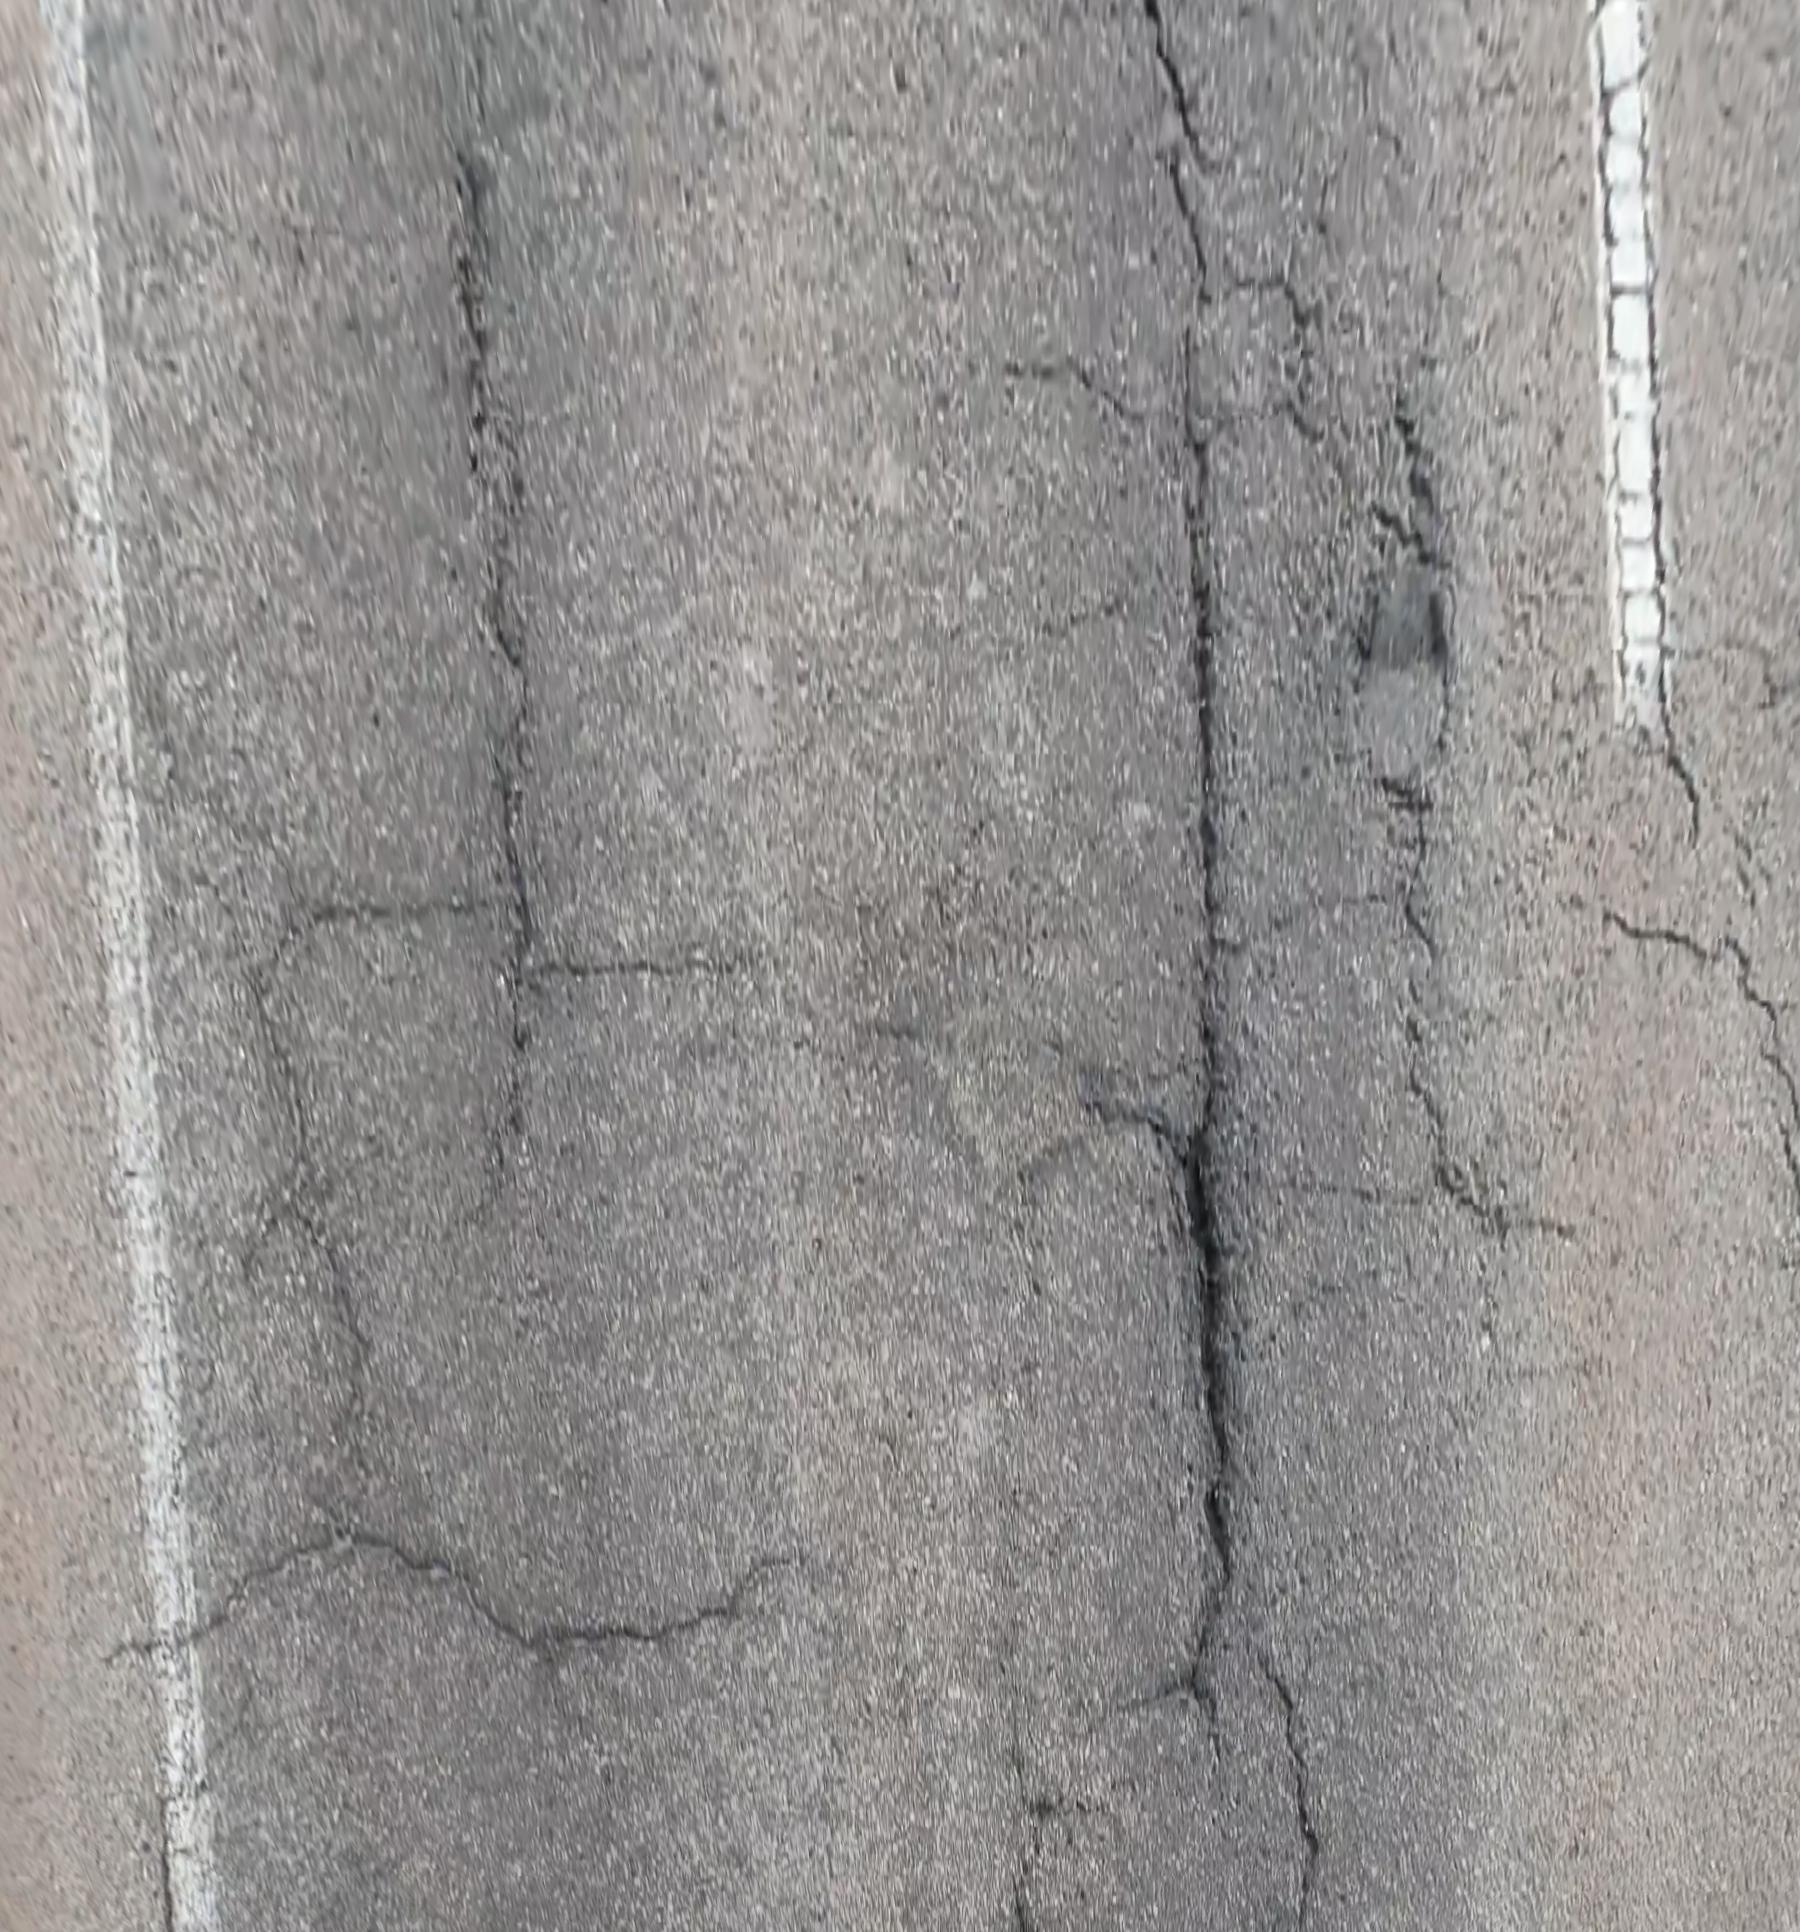pothole: (1186, 1118, 1240, 1587)
pothole_patch_poor: (1360, 546, 1446, 792)
